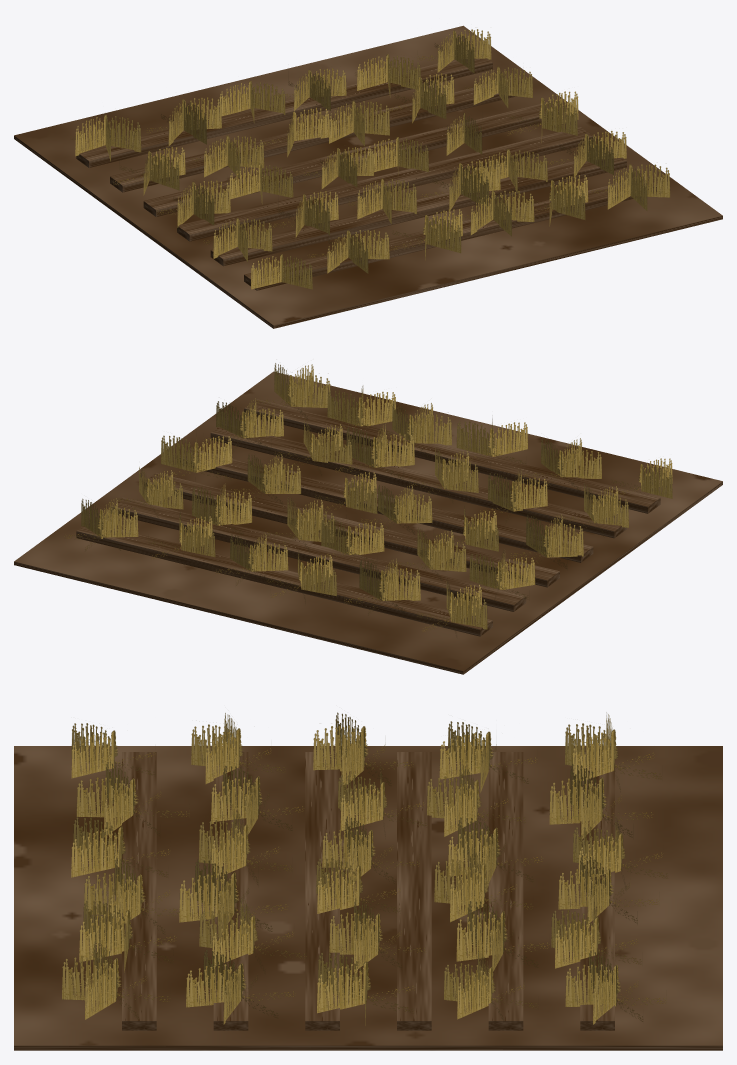
File: nodo-farm-e0-2DSfDSwb.glb
3 views of the same model, one above another, from view 1: azimuth 30°, elevation 25°; view 2: azimuth 150°, elevation 25°; view 3: azimuth 270°, elevation 25° (orthographic). The views are drawn at different scales.
Parts seen in each view (by area): view 1: suelo_y_surcos, cultivo; view 2: suelo_y_surcos, cultivo; view 3: suelo_y_surcos, cultivo.
Boxes of the visible parts, box(x1,y1,x2,y2) form: suelo_y_surcos: box(14, 25, 722, 328); cultivo: box(70, 29, 670, 289); suelo_y_surcos: box(14, 371, 722, 674); cultivo: box(64, 363, 672, 632); suelo_y_surcos: box(14, 746, 722, 1050); cultivo: box(62, 712, 668, 1025).
Size of the model in its own units: 47.2 by 4.46 by 47.2.
2 materials, 2 textured.
